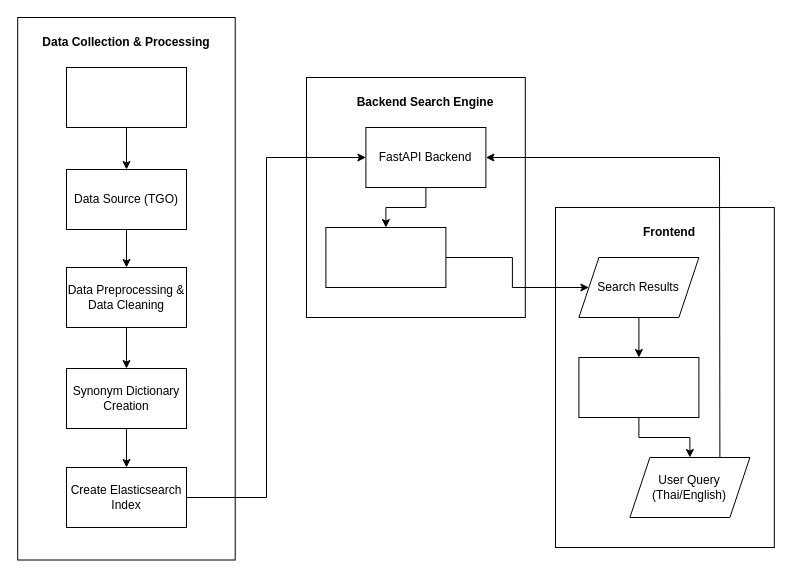
Image size: 792x578. Some labels were removed from this diagram. Each missing label, with the centre of its shape:
Elasticsearch Engine: point (385, 257)
React.js Frontend (User Interface & Display Results): point (638, 387)
Web Scraping (Data Extraction): point (126, 97)
